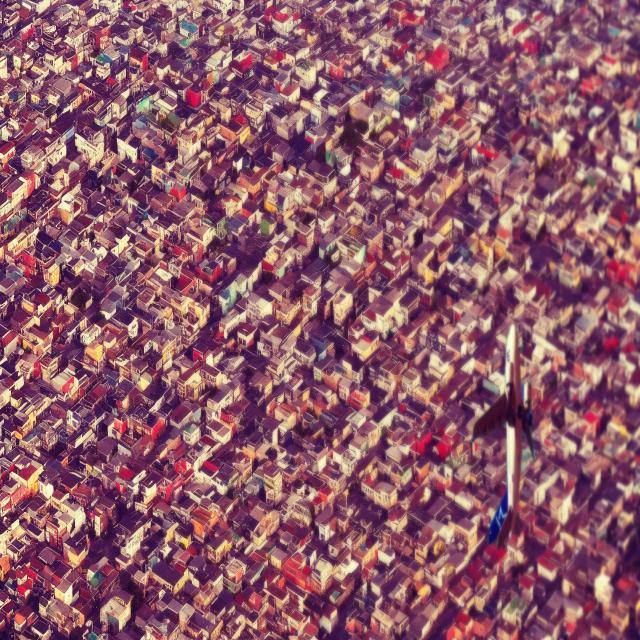airplane: (470, 322, 536, 549)
